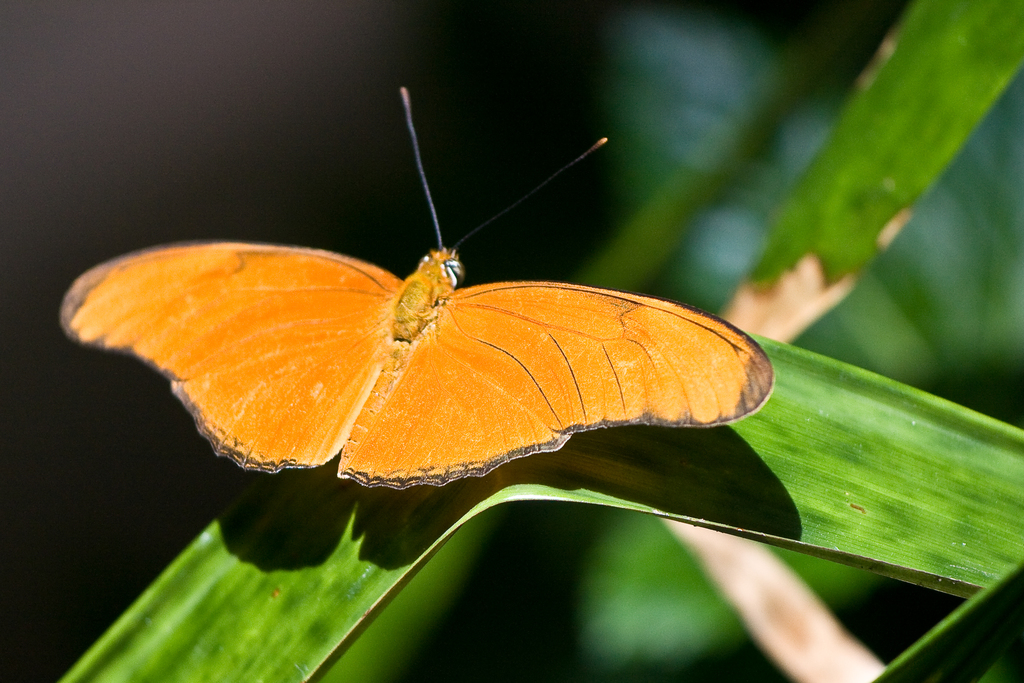Butterfly: (48, 228, 789, 514)
